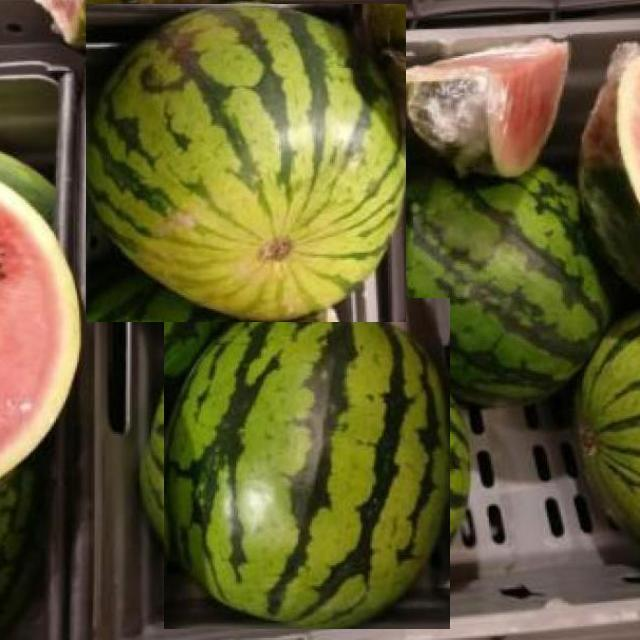Watermelon: (86, 4, 406, 322), (165, 298, 450, 629), (386, 160, 611, 412), (394, 29, 570, 180)
